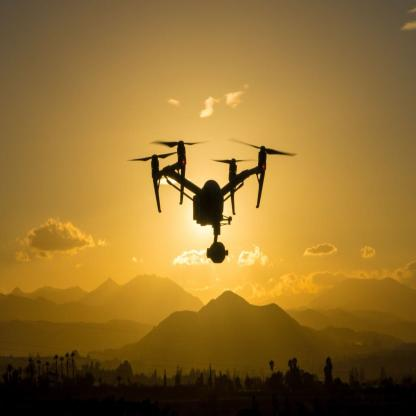drone: (122, 127, 294, 226)
